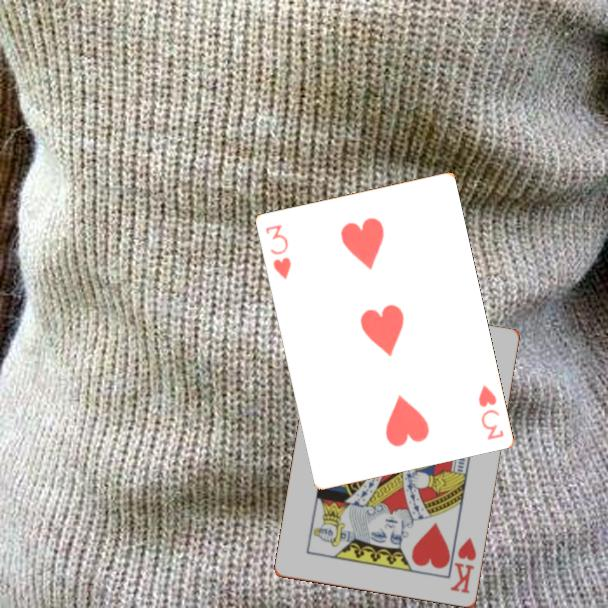h03: (261, 221, 294, 282), (474, 381, 506, 442)
h13: (447, 534, 479, 597)
